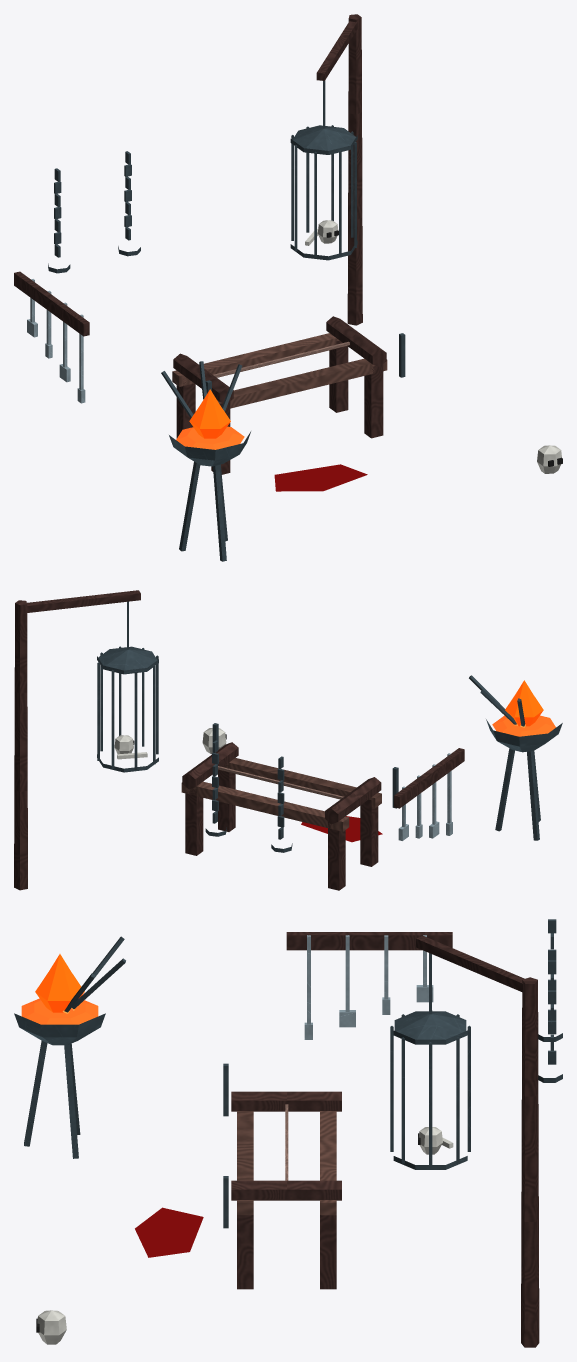
File: torture.glb
The picture shows the model from 3 angles, top to bottom: view 1: azimuth 30°, elevation 25°; view 2: azimuth 150°, elevation 25°; view 3: azimuth 270°, elevation 25°; orthographic projection. The views are drawn at different scales.
Visible parts, largest first — view 1: base_mesh, sway_0_mesh, flame_0_mesh; view 2: base_mesh, sway_0_mesh, flame_0_mesh; view 3: base_mesh, sway_0_mesh, flame_0_mesh.
Boxes of the visible parts, left/top/right/bottom form: base_mesh: left=14, top=14, right=562, bottom=561; sway_0_mesh: left=290, top=80, right=357, bottom=260; flame_0_mesh: left=189, top=389, right=230, bottom=438; base_mesh: left=14, top=590, right=562, bottom=890; sway_0_mesh: left=97, top=601, right=158, bottom=772; flame_0_mesh: left=505, top=680, right=543, bottom=726; base_mesh: left=14, top=919, right=562, bottom=1347; sway_0_mesh: left=390, top=953, right=470, bottom=1169; flame_0_mesh: left=35, top=954, right=84, bottom=1012.
Size of the model in its own units: 1.89 by 1.45 by 1.99.
Materials: 13 (7 with a texture image).
